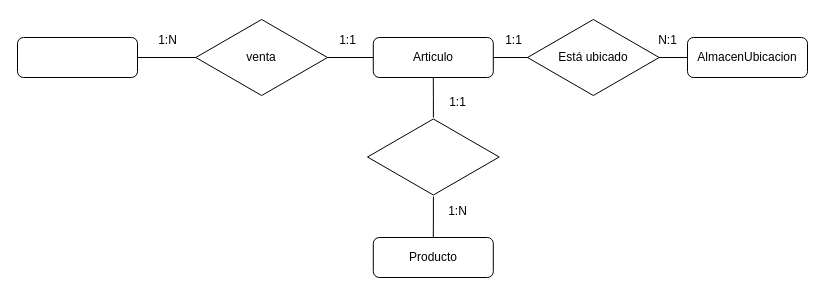
Some shapes in this 825 by 295 pixel diagram are drawn without their labels. Each missing label, with the box of its shape:
Cliente: (16, 36, 138, 78)
Es un producto: (366, 116, 499, 196)
